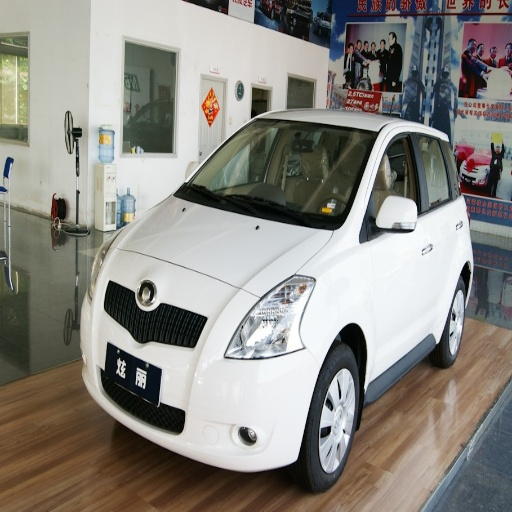front_bumper: (84, 250, 326, 463)
front_glass: (174, 120, 378, 229)
front_left_door: (367, 130, 431, 381)
